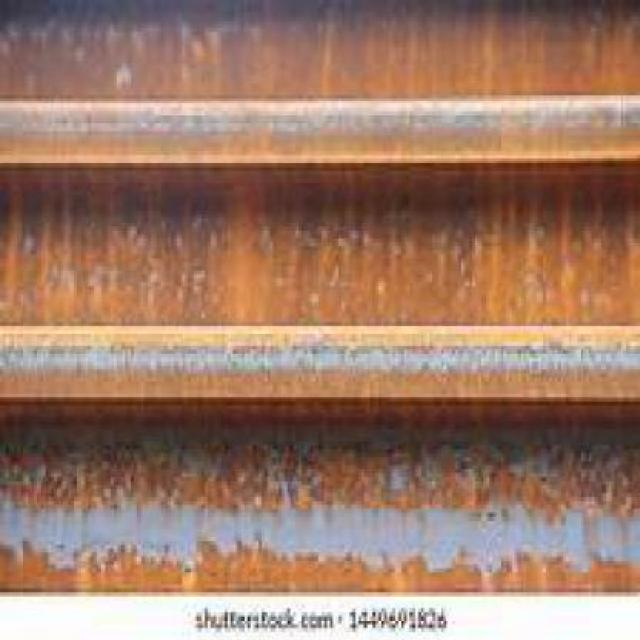defective: (4, 6, 640, 578)
